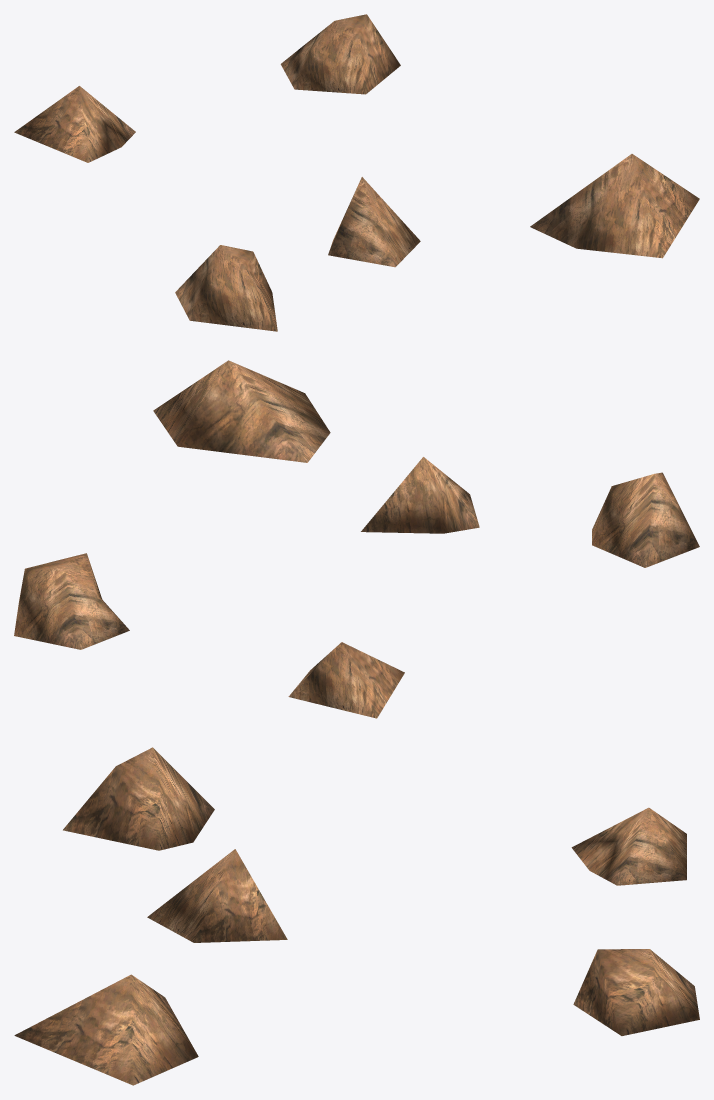
The model's file is rock_tatt_bensmesa_pebbles_a1_l3.fbx.
3 views of the same model, one above another, from view 1: azimuth 30°, elevation 25°; view 2: azimuth 150°, elevation 25°; view 3: azimuth 270°, elevation 25° (orthographic). The views are drawn at different scales.
Parts seen in each view (by area): view 1: mesh_node; view 2: mesh_node; view 3: mesh_node.
Part boxes in pixels (left/top/right/bottom): mesh_node: left=14, top=14, right=699, bottom=331; mesh_node: left=14, top=360, right=699, bottom=718; mesh_node: left=14, top=747, right=699, bottom=1085.
Size of the model in its own units: 1.21 by 0.143 by 1.22.
